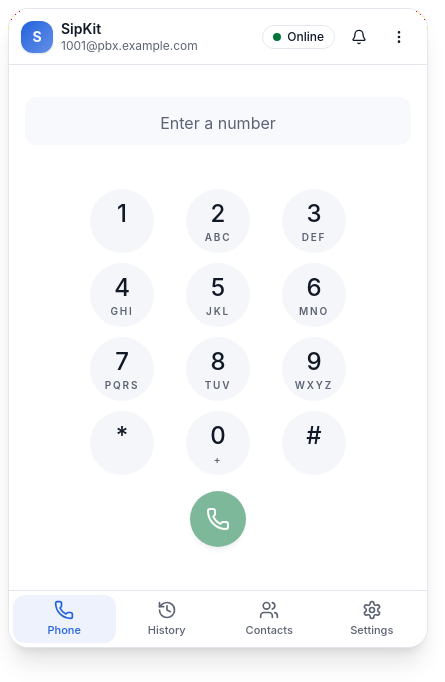
dialer autocomplete › Escape closes the list and keeps the typed number; Enter then calls
Later steps or results of the test are not shown.
Type "10" into the dropdown named "Number to dial" at (218, 120), box [25,96,411,144]
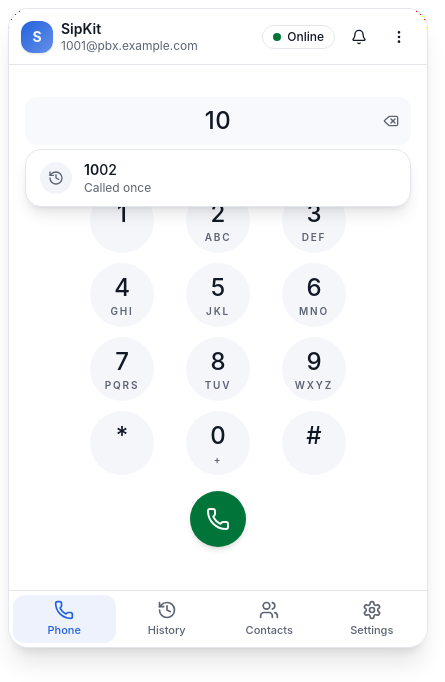
Result: the list is shown at [25,148,411,206]
